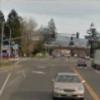cars: (52, 72, 86, 100)
